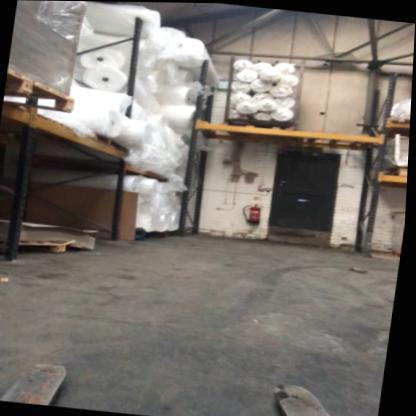vertical_damage: (365, 223, 384, 243)
